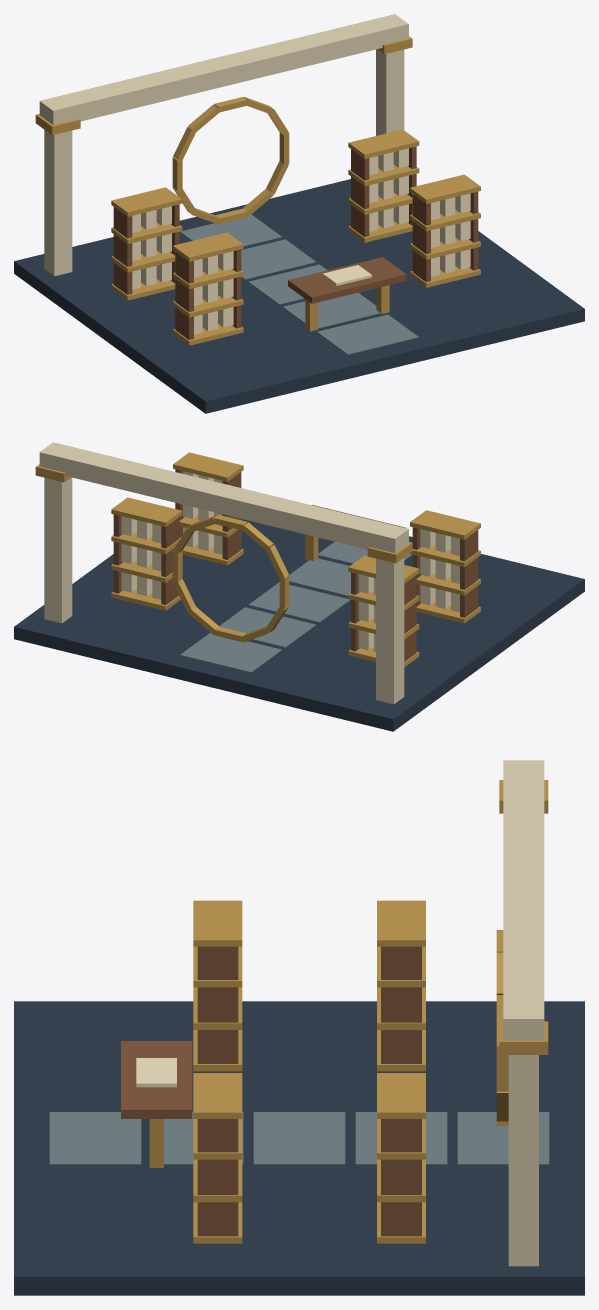
File: preserve.glb
The picture shows the model from 3 angles, top to bottom: view 1: azimuth 30°, elevation 25°; view 2: azimuth 150°, elevation 25°; view 3: azimuth 270°, elevation 25°; orthographic projection. The views are drawn at different scales.
Visible parts, largest first — view 1: preserve; view 2: preserve; view 3: preserve.
Boxes of the visible parts, bbox=[...] form: preserve: bbox=[14, 14, 584, 413]; preserve: bbox=[14, 442, 584, 731]; preserve: bbox=[14, 760, 584, 1295].
Bounding box in the file's own units: 32 × 14.5 × 28.
